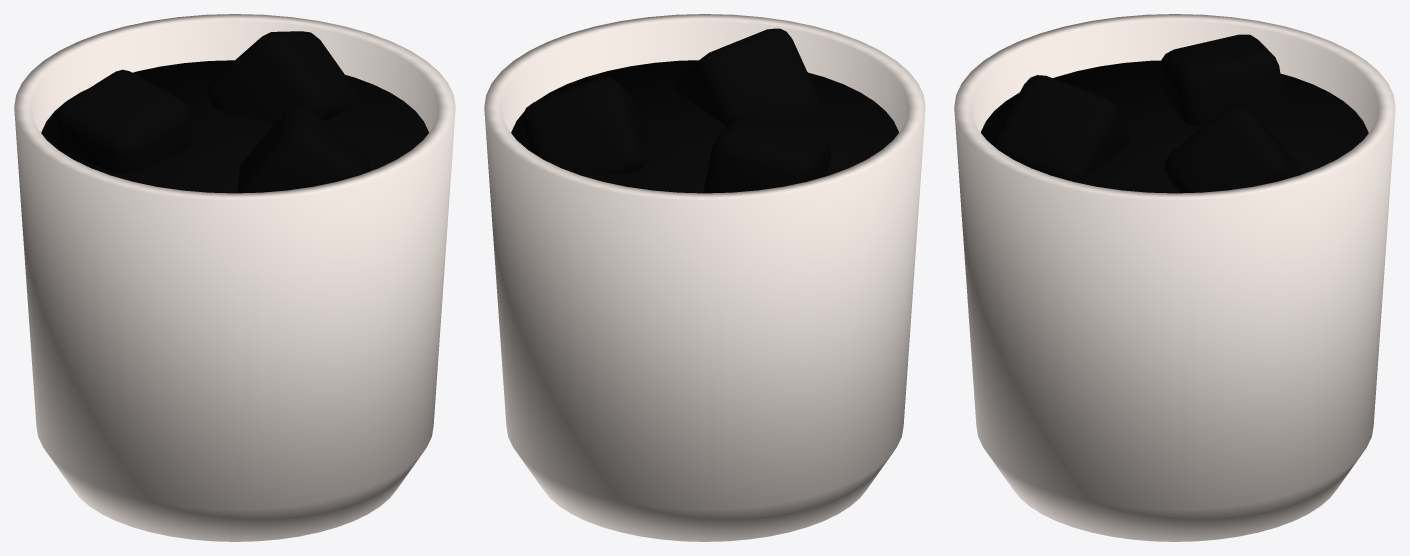
The model's file is Menu_IcedAmericano.fbx.
The picture shows the model from 3 angles, left to right: view 1: azimuth 30°, elevation 25°; view 2: azimuth 150°, elevation 25°; view 3: azimuth 270°, elevation 25°; orthographic projection.
Visible parts, largest first — view 1: Menu_IcedAmericano.001; view 2: Menu_IcedAmericano.001; view 3: Menu_IcedAmericano.001.
Boxes of the visible parts, bbox=[...] form: Menu_IcedAmericano.001: bbox=[14, 14, 455, 541]; Menu_IcedAmericano.001: bbox=[484, 14, 925, 541]; Menu_IcedAmericano.001: bbox=[954, 14, 1395, 541].
Bounding box in the file's own units: 49.66 × 49.36 × 49.66.
